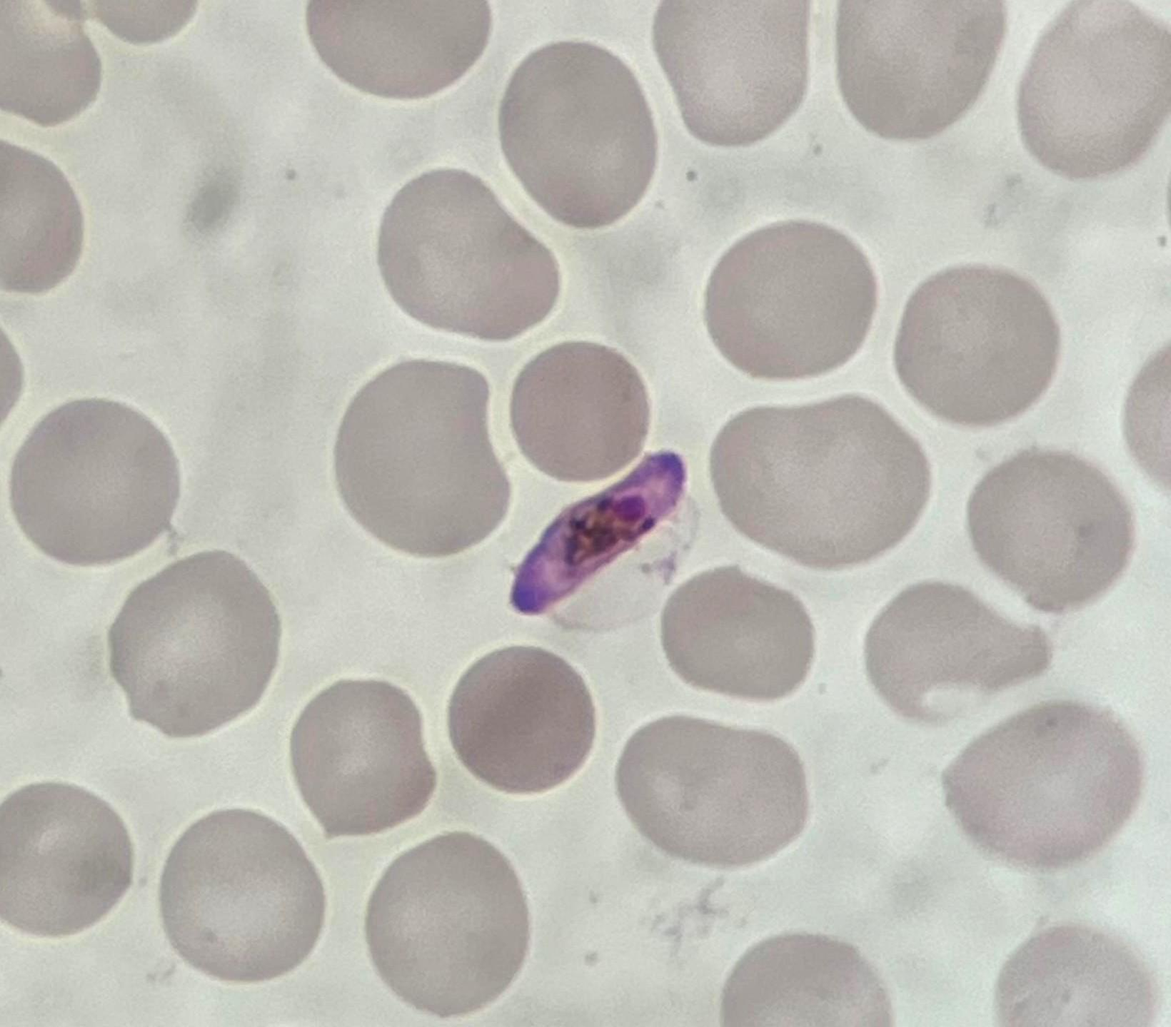Infected: (507, 448, 710, 633)
Uninfected: (710, 391, 932, 568), (332, 359, 506, 558), (939, 698, 1147, 864), (107, 548, 282, 739), (375, 168, 561, 341), (496, 38, 660, 230), (616, 712, 810, 869), (159, 805, 329, 983), (366, 832, 532, 1014), (701, 219, 879, 384), (11, 398, 185, 563), (1017, 0, 1171, 180), (866, 582, 1052, 730), (894, 263, 1060, 426), (968, 452, 1137, 609), (834, 0, 1009, 143), (287, 677, 438, 837), (649, 0, 812, 148), (448, 643, 599, 795), (660, 561, 816, 702), (0, 776, 135, 934), (303, 0, 495, 103), (511, 341, 650, 482), (719, 926, 898, 1027), (991, 917, 1155, 1027)
